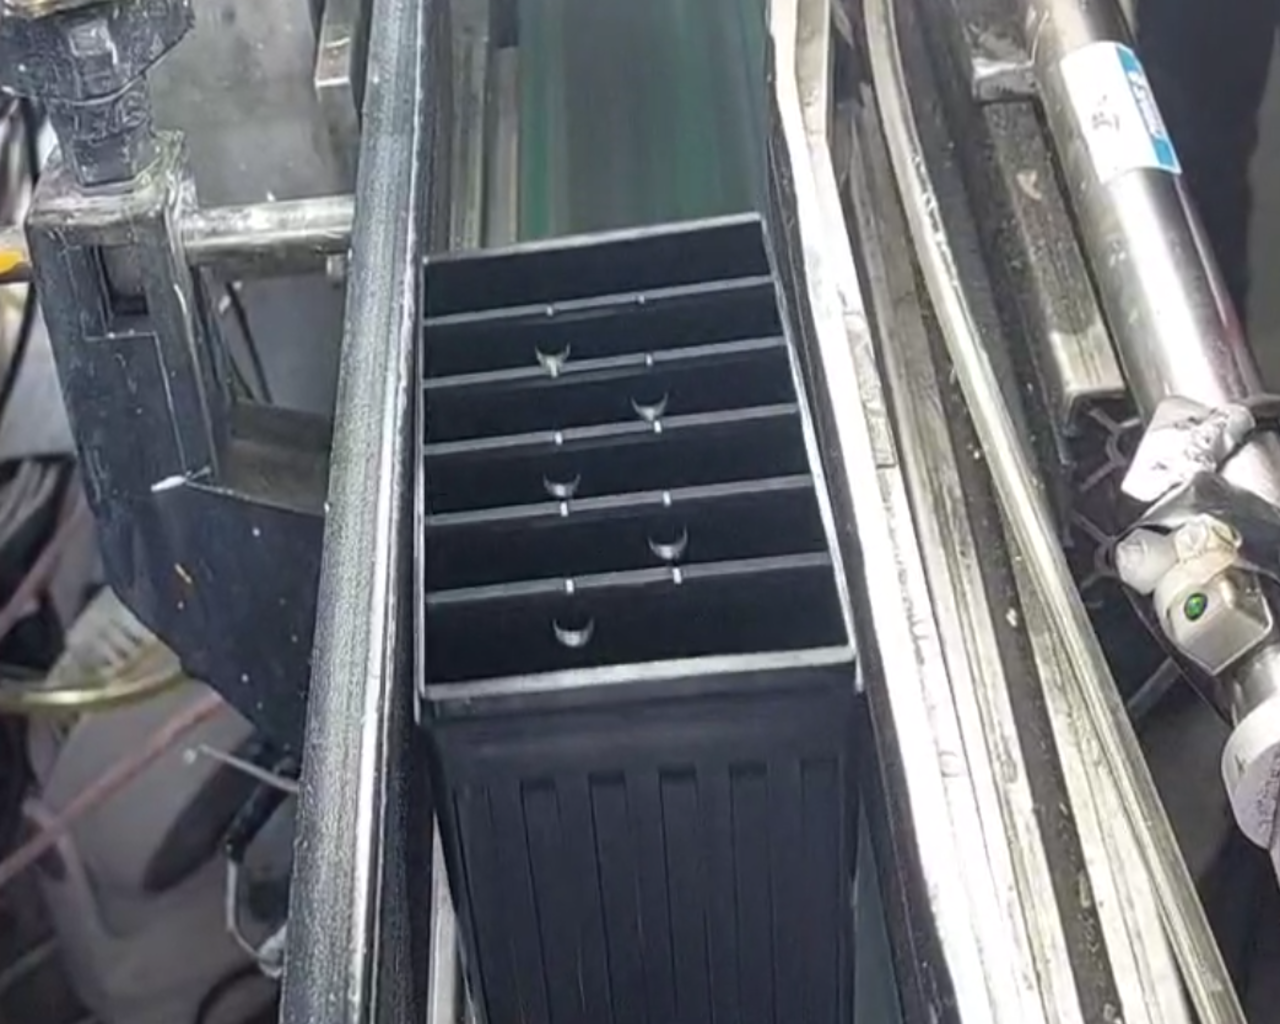box: (392, 194, 885, 741)
round: (535, 594, 610, 658), (632, 509, 705, 567), (527, 451, 597, 507), (521, 322, 590, 376), (615, 372, 680, 426)
